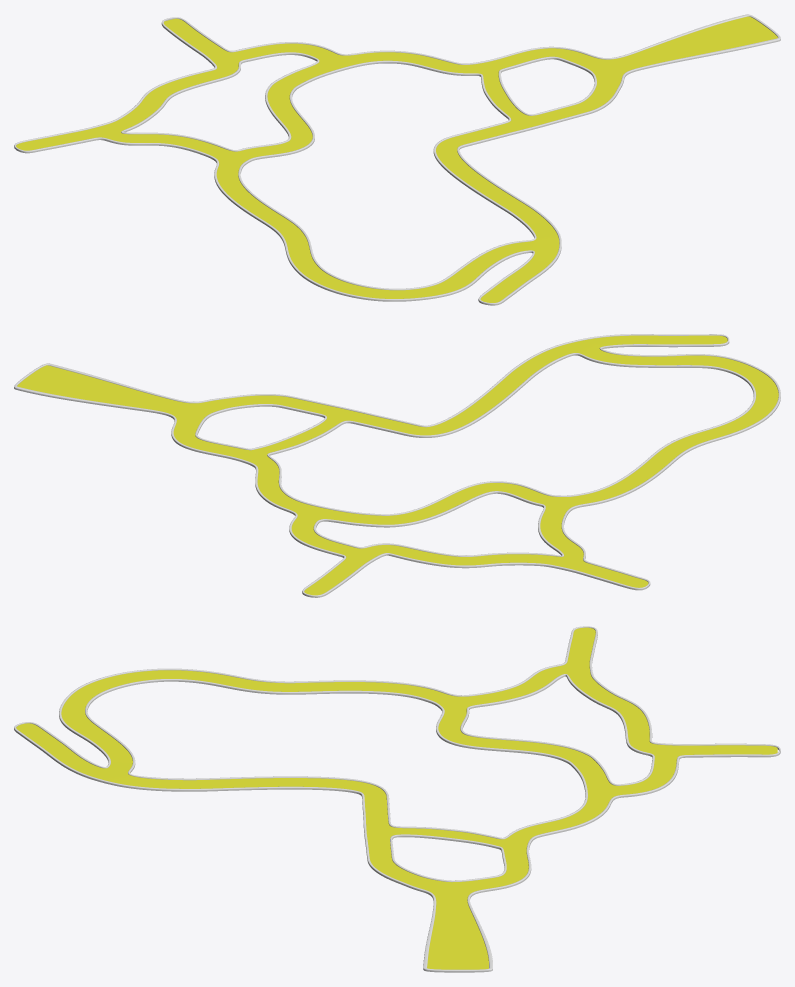
The model's file is Sol3.fbx.
3 renders of one model, top to bottom at view 1: azimuth 30°, elevation 25°; view 2: azimuth 150°, elevation 25°; view 3: azimuth 270°, elevation 25°, orthographic. The views are drawn at different scales.
Parts seen in each view (by area): view 1: BezierCurve, BezierCurve.001; view 2: BezierCurve, BezierCurve.001; view 3: BezierCurve, BezierCurve.001.
Boxes of the visible parts, box(x1,y1,x2,y2) form: BezierCurve: box(16, 16, 777, 302); BezierCurve.001: box(14, 14, 780, 305); BezierCurve: box(17, 335, 778, 595); BezierCurve.001: box(14, 334, 780, 597); BezierCurve: box(16, 627, 777, 969); BezierCurve.001: box(14, 626, 780, 972).
Size of the model in its own units: 9943 by 26.35 by 9357.
